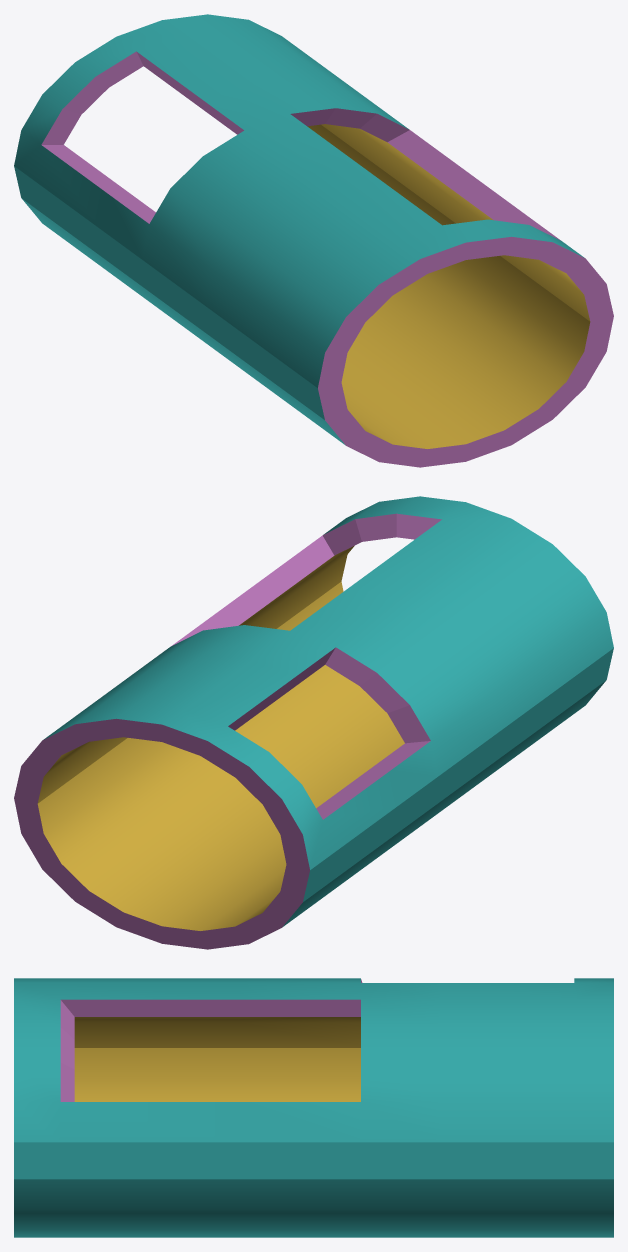
The model's file is Arbol_hoyos5.fbx.
The picture shows the model from 3 angles, top to bottom: view 1: azimuth 30°, elevation 25°; view 2: azimuth 150°, elevation 25°; view 3: azimuth 270°, elevation 25°; orthographic projection.
Visible parts, largest first — view 1: Resbaladilla_12; view 2: Resbaladilla_12; view 3: Resbaladilla_12.
Boxes of the visible parts, <box> form: Resbaladilla_12: <box>14,14,613,467</box>; Resbaladilla_12: <box>14,496,613,949</box>; Resbaladilla_12: <box>14,978,613,1237</box>.
Bounding box in the file's own units: 34.05 × 24.09 × 60.51.
